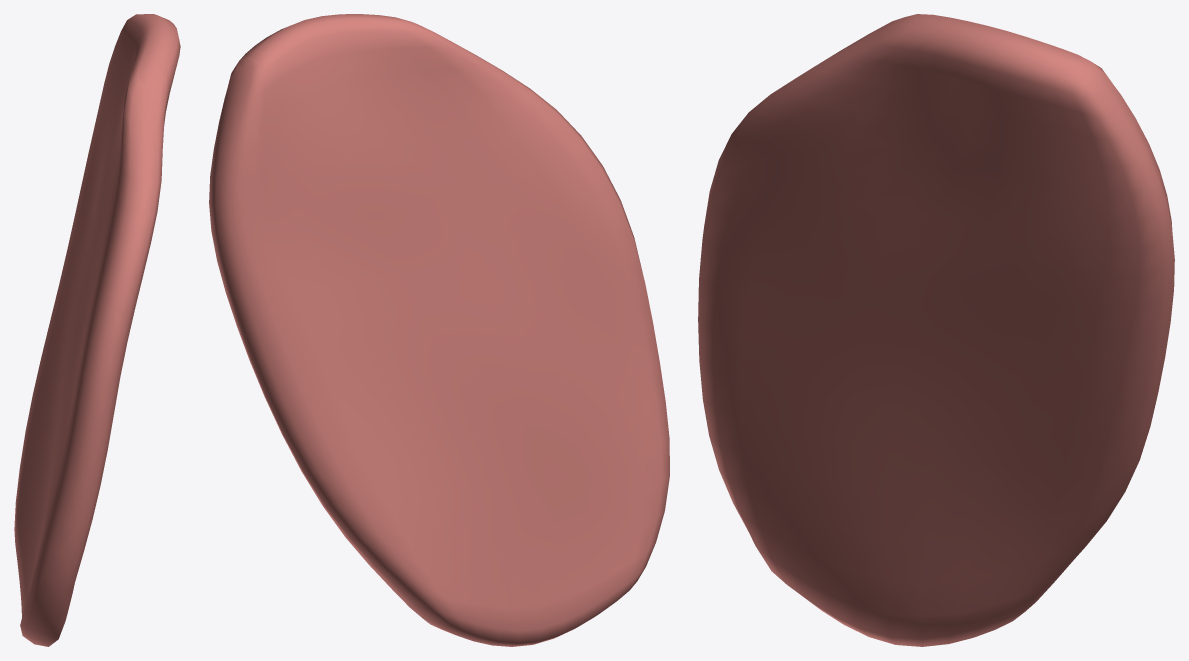
The picture shows the model from 3 angles, left to right: view 1: azimuth 30°, elevation 25°; view 2: azimuth 150°, elevation 25°; view 3: azimuth 270°, elevation 25°; orthographic projection. The views are drawn at different scales.
Parts seen in each view (by area): view 1: ZA_a1445f6f7d7005f7; view 2: ZA_a1445f6f7d7005f7; view 3: ZA_a1445f6f7d7005f7.
Boxes of the visible parts, box(x1,y1,x2,y2) form: ZA_a1445f6f7d7005f7: box(14, 14, 180, 646); ZA_a1445f6f7d7005f7: box(209, 14, 669, 646); ZA_a1445f6f7d7005f7: box(698, 14, 1174, 646).
Bounding box in the file's own units: 0.0139 × 0.0281 × 0.0172.
